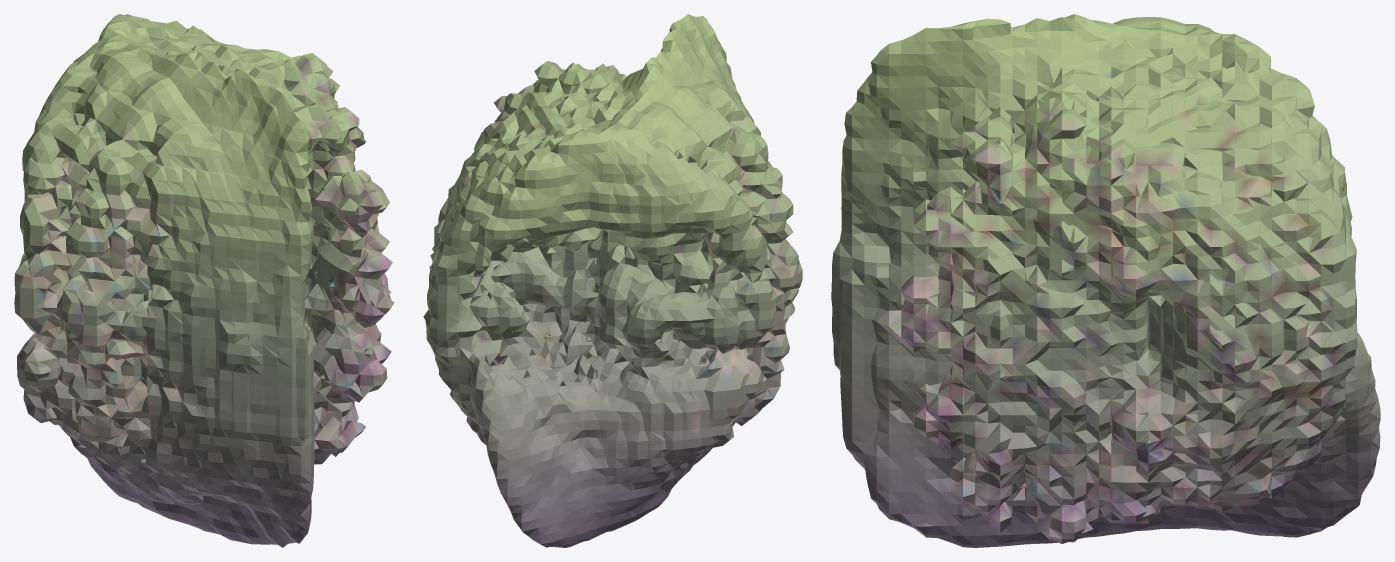
Rendered from spore_well.glb.
The picture shows the model from 3 angles, left to right: view 1: azimuth 30°, elevation 25°; view 2: azimuth 150°, elevation 25°; view 3: azimuth 270°, elevation 25°; orthographic projection. The views are drawn at different scales.
Visible parts, largest first — view 1: world; view 2: world; view 3: world.
Part boxes in pixels (left/top/right/bottom): world: left=14, top=14, right=394, bottom=547; world: left=423, top=14, right=802, bottom=547; world: left=831, top=14, right=1380, bottom=547.
Bounding box in the file's own units: 5.86 × 8 × 7.49.
